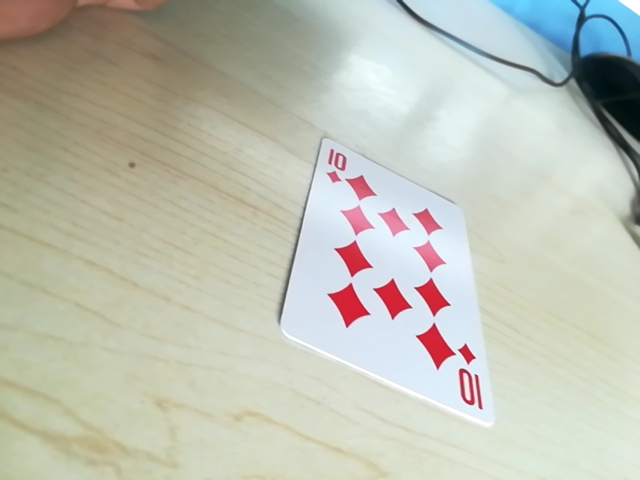fk 10: (451, 339, 487, 418), (318, 137, 362, 194)
